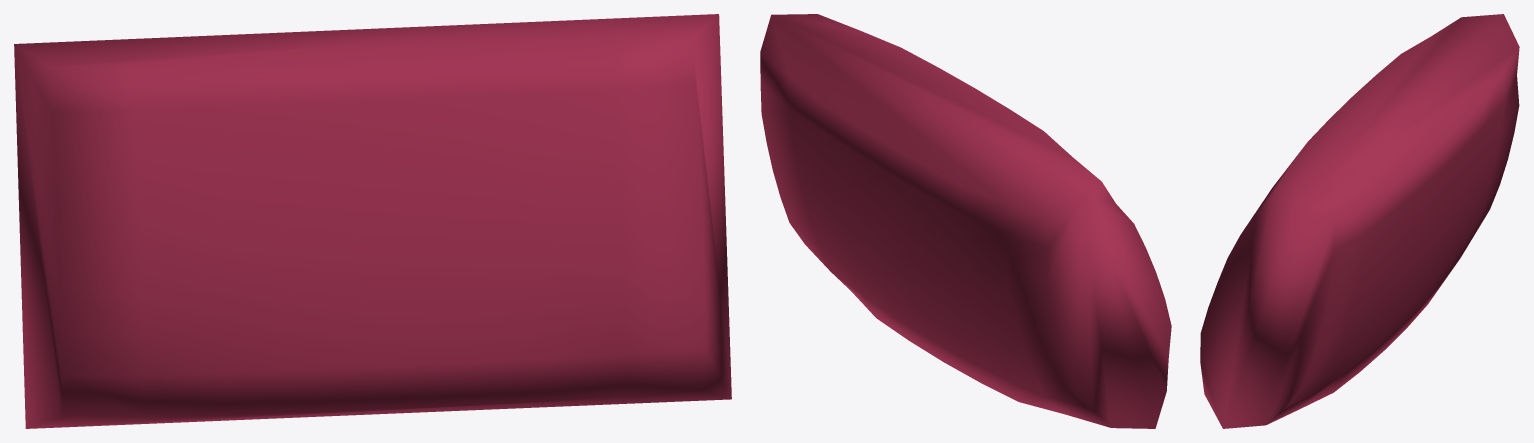
File: hunters_wimb_pillow2.fbx
3 renders of one model, left to right at view 1: azimuth 30°, elevation 25°; view 2: azimuth 150°, elevation 25°; view 3: azimuth 270°, elevation 25°, orthographic. The views are drawn at different scales.
Visible parts, largest first — view 1: RedPillow2; view 2: RedPillow2; view 3: RedPillow2.
Boxes of the visible parts, box(x1,y1,x2,y2) form: RedPillow2: box(14, 14, 731, 428); RedPillow2: box(760, 14, 1171, 428); RedPillow2: box(1200, 14, 1519, 428).
Size of the model in its own units: 26.62 by 14.86 by 17.37.
